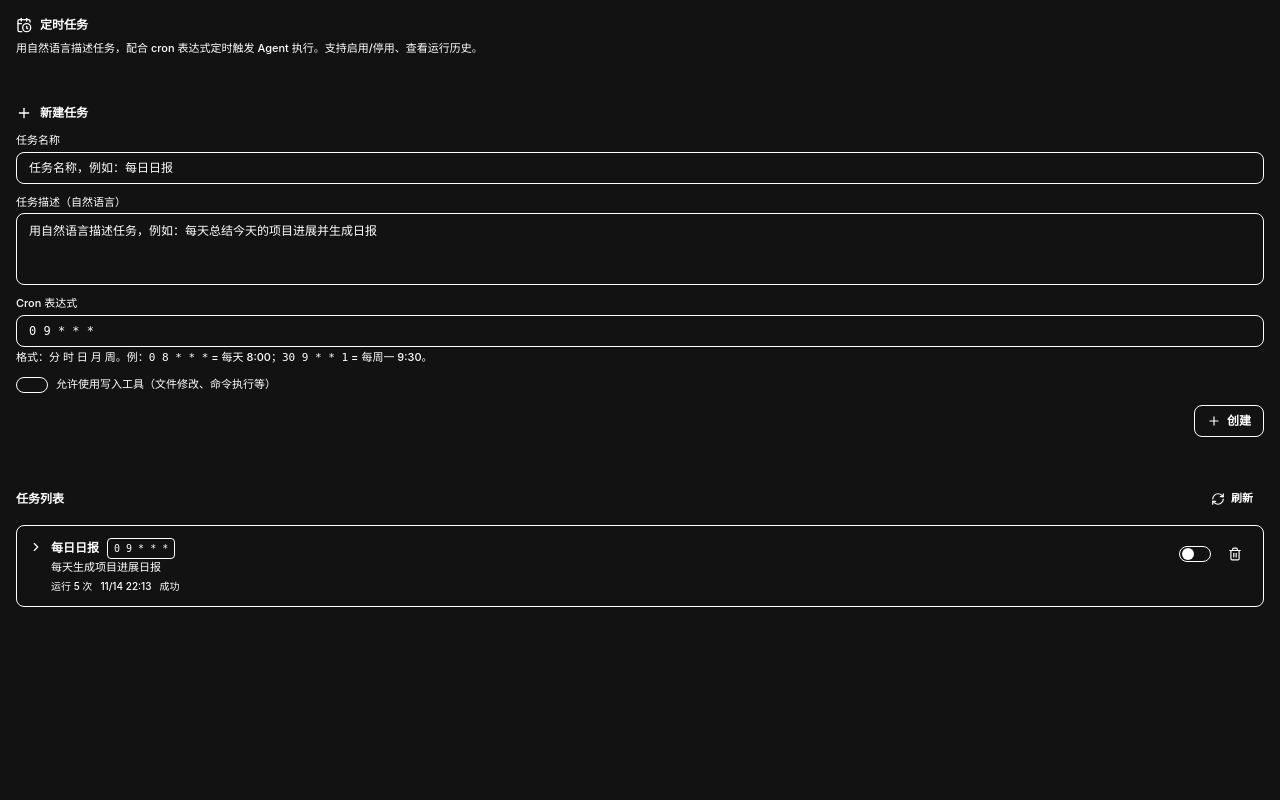
CronJobsSettings 组件 › 展开任务显示执行历史（last_run_result）
Expected: the text "每日日报" is shown, [51, 539, 99, 557]
Click the button "每日日报 0 9 * * * 每天生成项目进展日报 运行 5 次 11/14 22:13 成功". click: (75, 548)
box: [29, 538, 1167, 594]
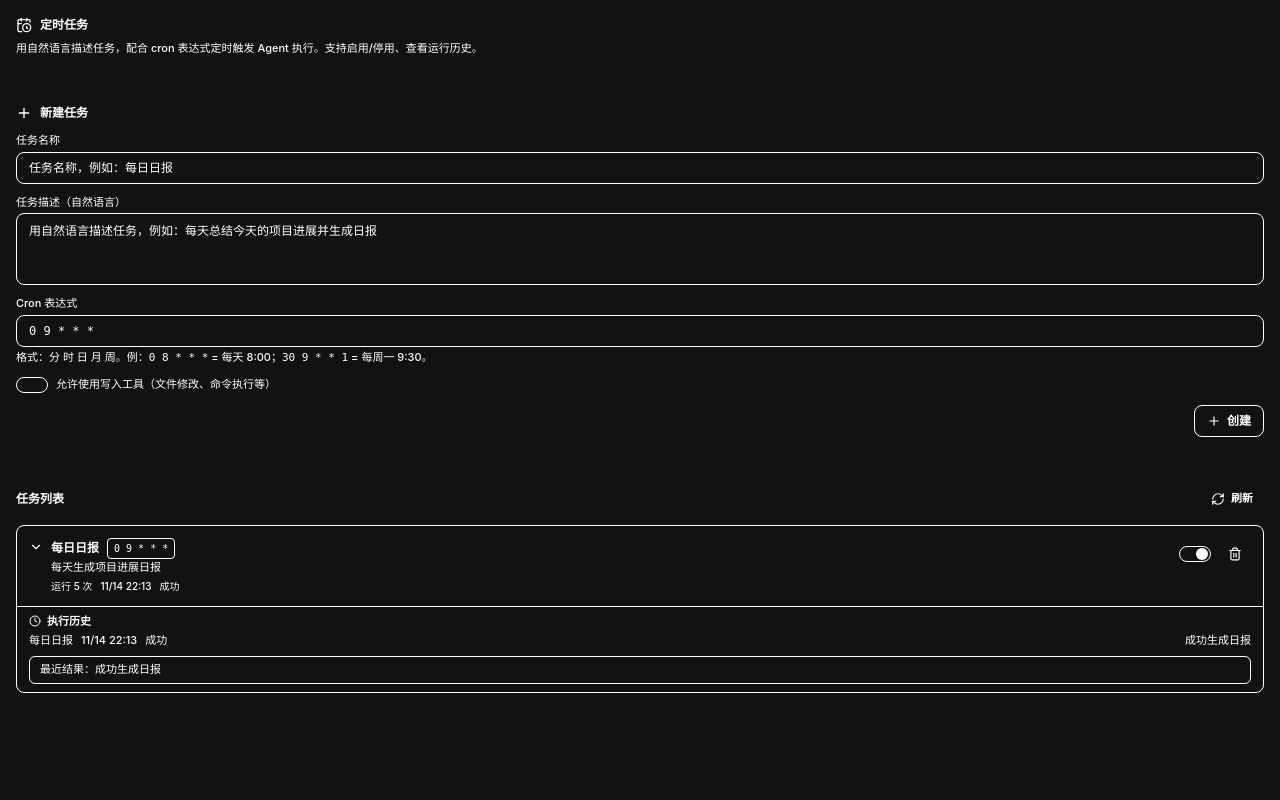
Now the text "成功生成日报" is shown, box [1185, 634, 1251, 648]
